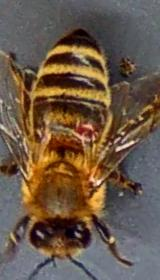varroa_mite: (63, 115, 114, 149)
